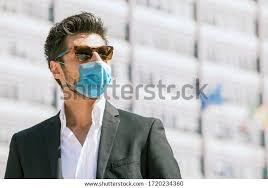mask: (70, 60, 116, 98)
sunglasses: (69, 42, 119, 62)
